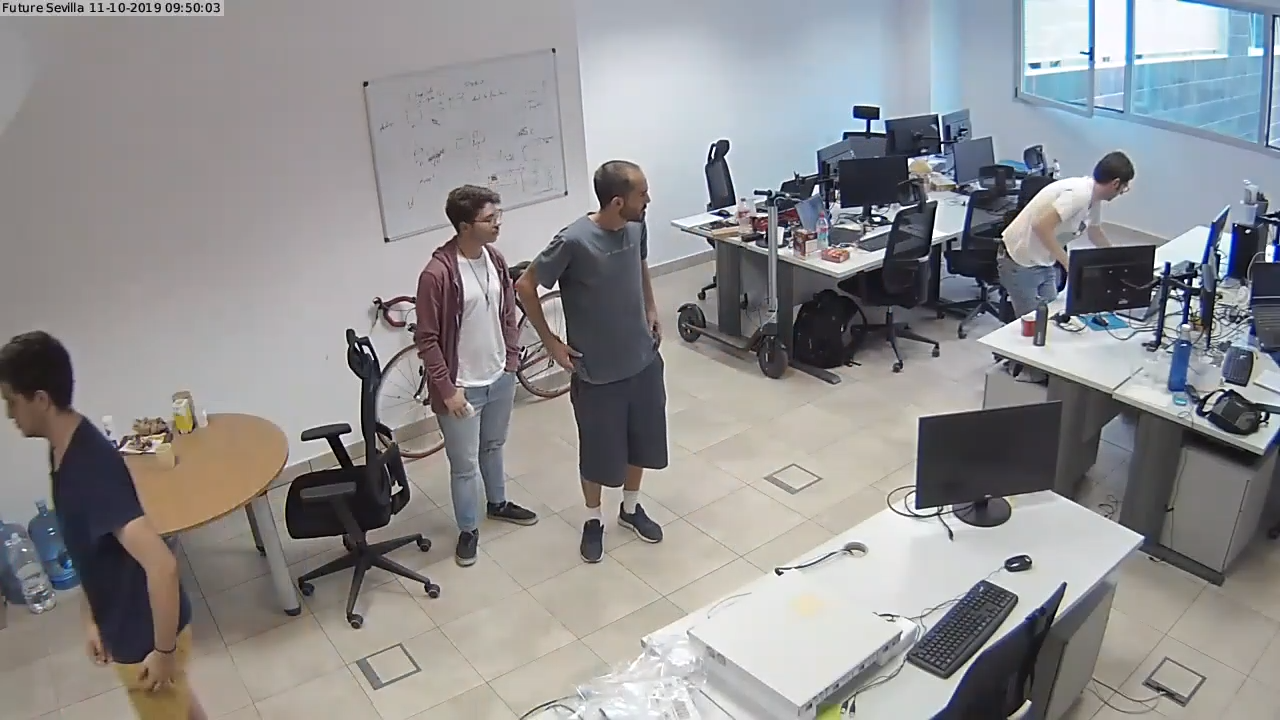head: (1, 328, 90, 453), (585, 156, 656, 236), (436, 178, 509, 255), (1090, 148, 1138, 214)
